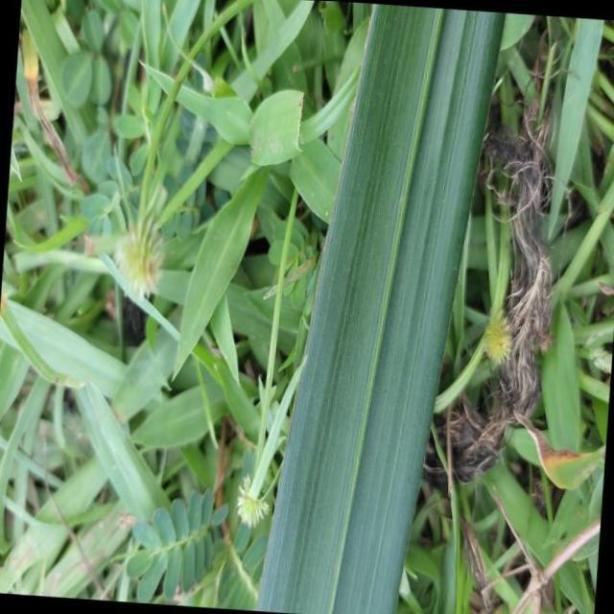Healthy: (250, 0, 514, 614)
